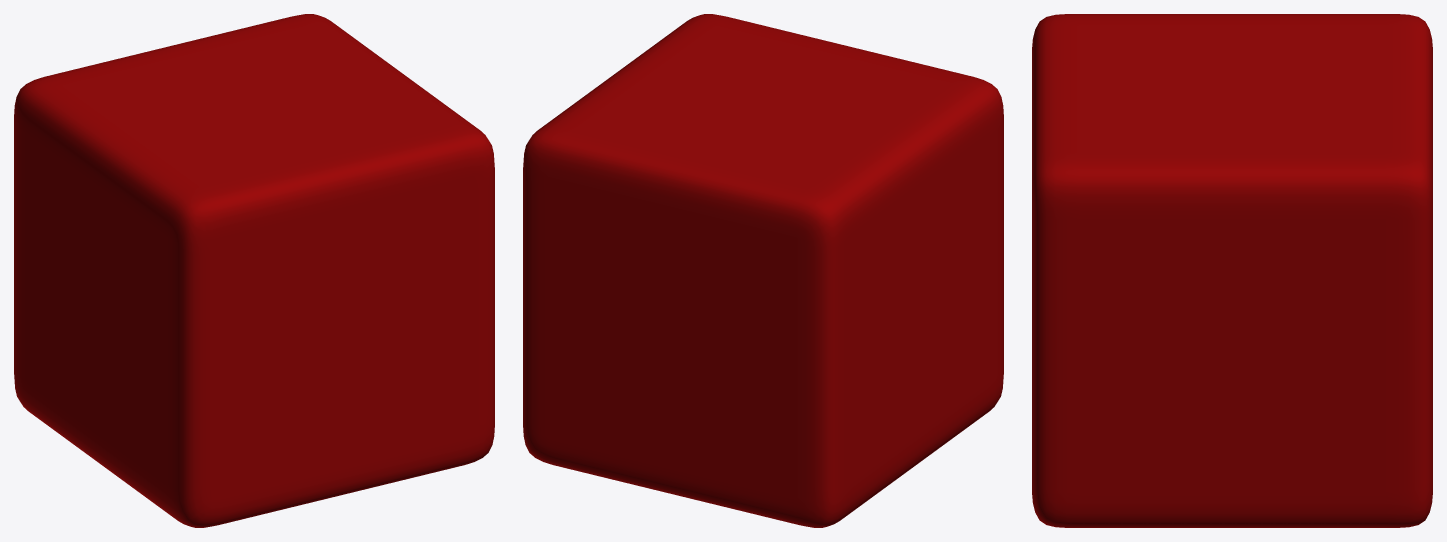
3 renders of one model, left to right at view 1: azimuth 30°, elevation 25°; view 2: azimuth 150°, elevation 25°; view 3: azimuth 270°, elevation 25°, orthographic. The views are drawn at different scales.
Visible parts, largest first — view 1: box; view 2: box; view 3: box.
Part boxes in pixels (x1,y1,x2,y2): box: (14, 14, 494, 527); box: (523, 14, 1003, 527); box: (1032, 14, 1432, 527).
Bounding box in the file's own units: 282 × 282 × 282.
